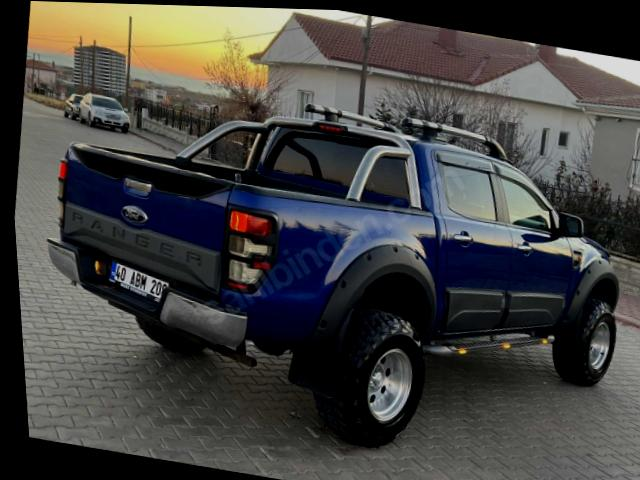plaka: (109, 262, 168, 302)
